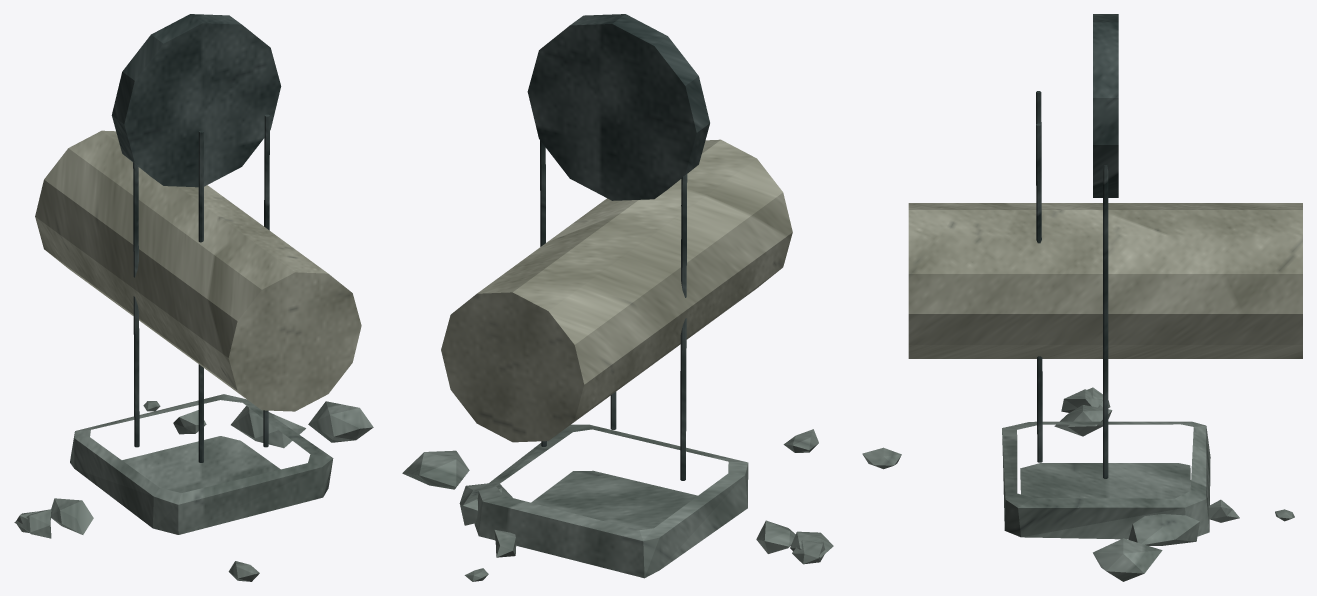
Rendered from 0268_broken_column_18.glb.
3 renders of one model, left to right at view 1: azimuth 30°, elevation 25°; view 2: azimuth 150°, elevation 25°; view 3: azimuth 270°, elevation 25°, orthographic. The views are drawn at different scales.
Parts seen in each view (by area): view 1: stone_light, stone_dark, stone; view 2: stone_light, stone_dark, stone; view 3: stone_light, stone, stone_dark.
Boxes of the visible parts, x1=… form: stone_light: x1=35, y1=130, x2=361, y2=411; stone_dark: x1=111, y1=14, x2=281, y2=462; stone: x1=14, y1=394, x2=373, y2=581; stone_light: x1=441, y1=139, x2=792, y2=442; stone_dark: x1=527, y1=14, x2=709, y2=480; stone: x1=402, y1=424, x2=833, y2=581; stone_light: x1=908, y1=203, x2=1302, y2=358; stone: x1=862, y1=387, x2=1294, y2=581; stone_dark: x1=1036, y1=14, x2=1118, y2=478.
Size of the model in its own units: 2.53 by 3.09 by 2.58.
Materials: 3 (3 with a texture image).
